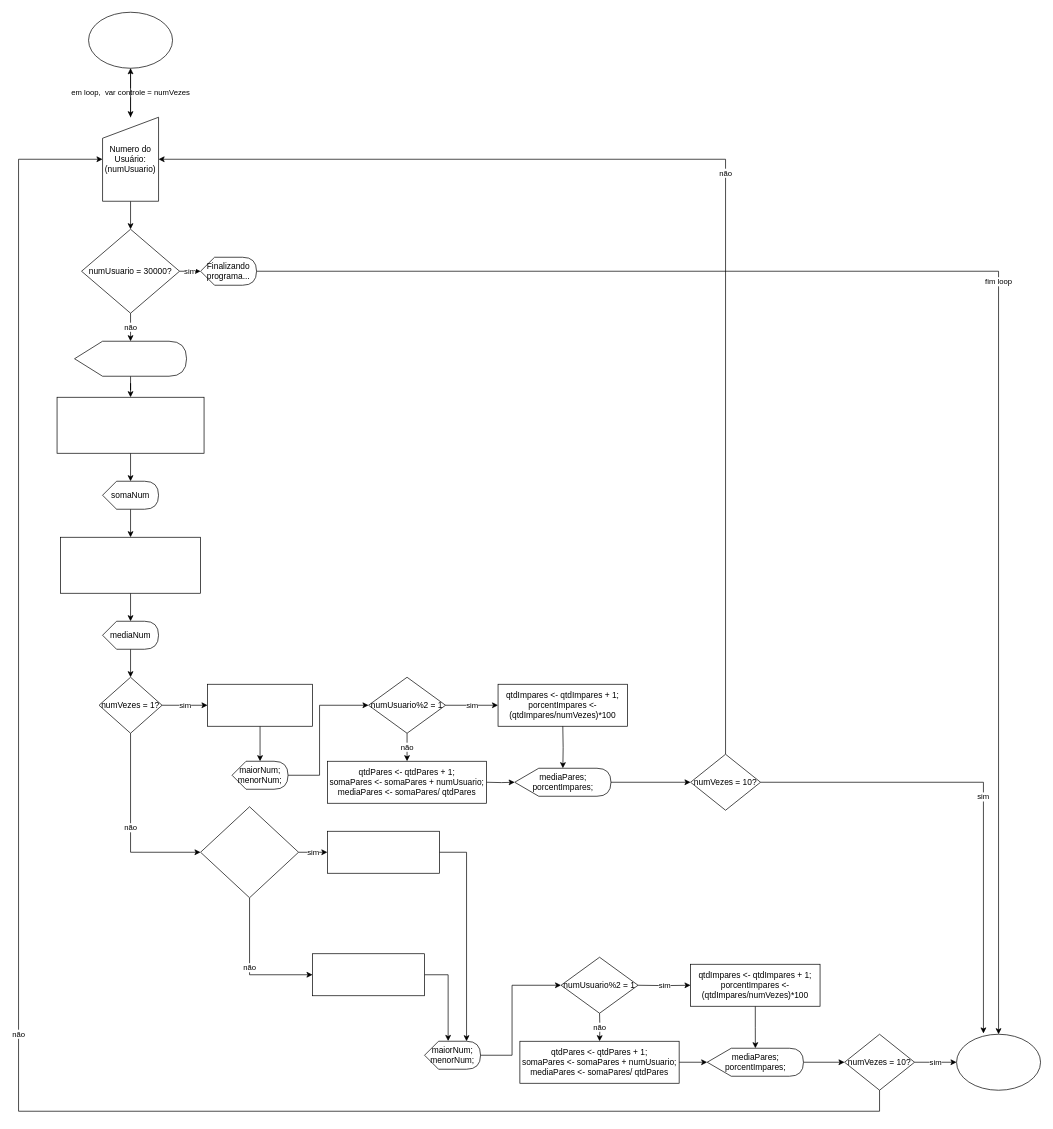
The diagram is 1053 pixels wide and 1129 high, and some of its shapes have lost their labels. The centre of each missing label's shape, as x and y in pixels:
Este é o <numVezes>º número que você digitou!: pixel 130 358
Fim: pixel 998 1062
Início: pixel 130 40
maiorNum <- numUsuario; menorNum <- numUsuario;: pixel 260 705
maiorNum<- numUsuario: pixel 383 852
mediaNum <- somaNum / numVezes: pixel 130 565
menorNum <- numUsuario: pixel 368 974
numUsuario > maiorNum: pixel 249 852
somaNum <- somaNum + numUsuario: pixel 130 425
